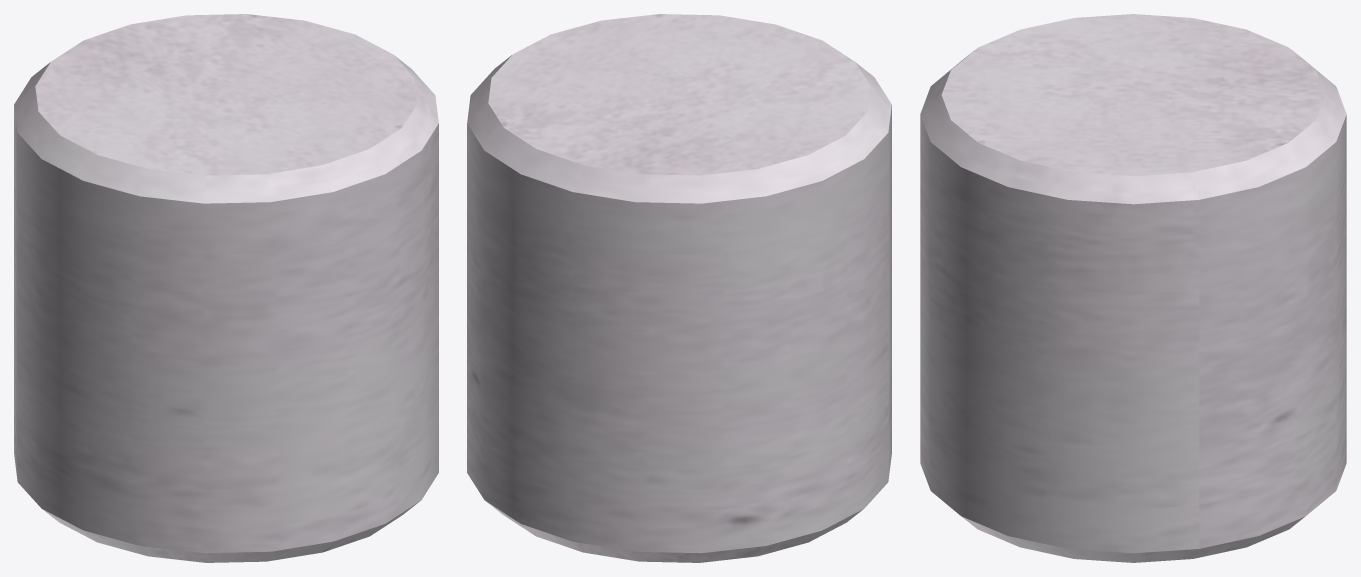
File: marshmallow thing.fbx
3 renders of one model, left to right at view 1: azimuth 30°, elevation 25°; view 2: azimuth 150°, elevation 25°; view 3: azimuth 270°, elevation 25°, orthographic.
Visible parts, largest first — view 1: pCylinder1; view 2: pCylinder1; view 3: pCylinder1.
Boxes of the visible parts, x1,y1,x2,y2 form: pCylinder1: (14,14,438,562); pCylinder1: (467,14,891,562); pCylinder1: (920,14,1346,562).
Bounding box in the file's own units: 17.53 × 17.53 × 17.53.
1 material, 1 textured.
